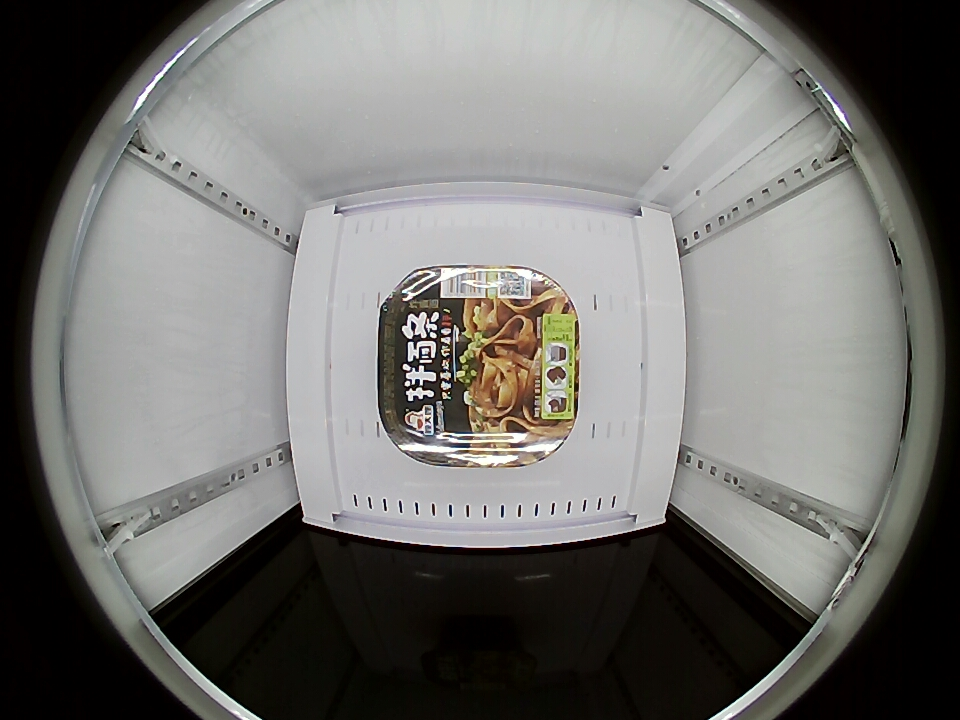gudasao: (376, 265, 579, 468)
